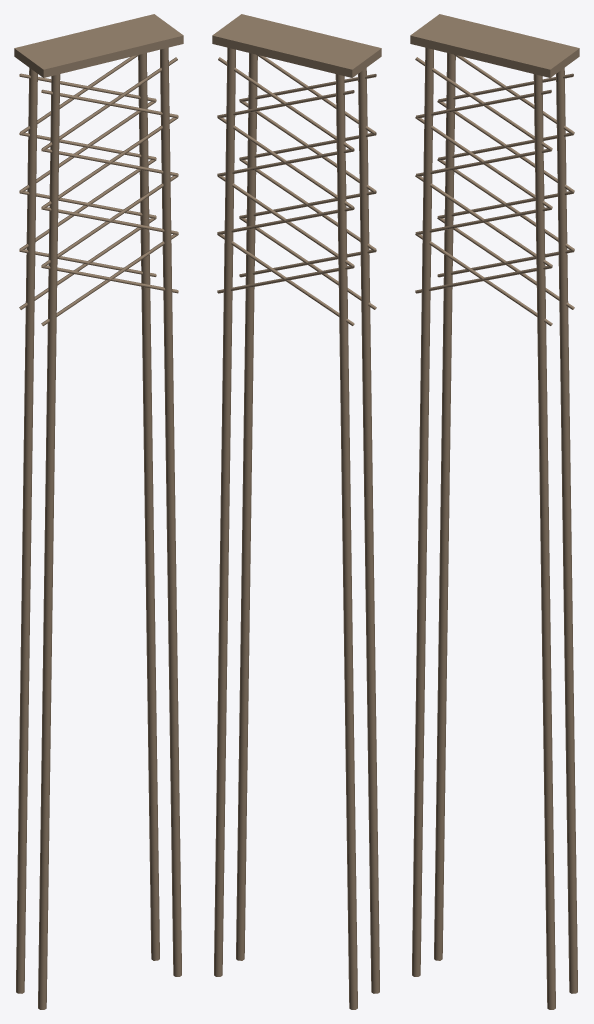
The model's file is bent.glb.
3 views of the same model, side by side, from view 1: azimuth 30°, elevation 25°; view 2: azimuth 150°, elevation 25°; view 3: azimuth 330°, elevation 25° (orthographic).
Parts seen in each view (by area): view 1: bent; view 2: bent; view 3: bent.
Part boxes in pixels (x1,y1,x2,y2): bent: [14, 14, 183, 1009]; bent: [212, 14, 381, 1009]; bent: [410, 14, 579, 1009].
Size of the model in its own units: 8.92 by 56.5 by 3.2.
